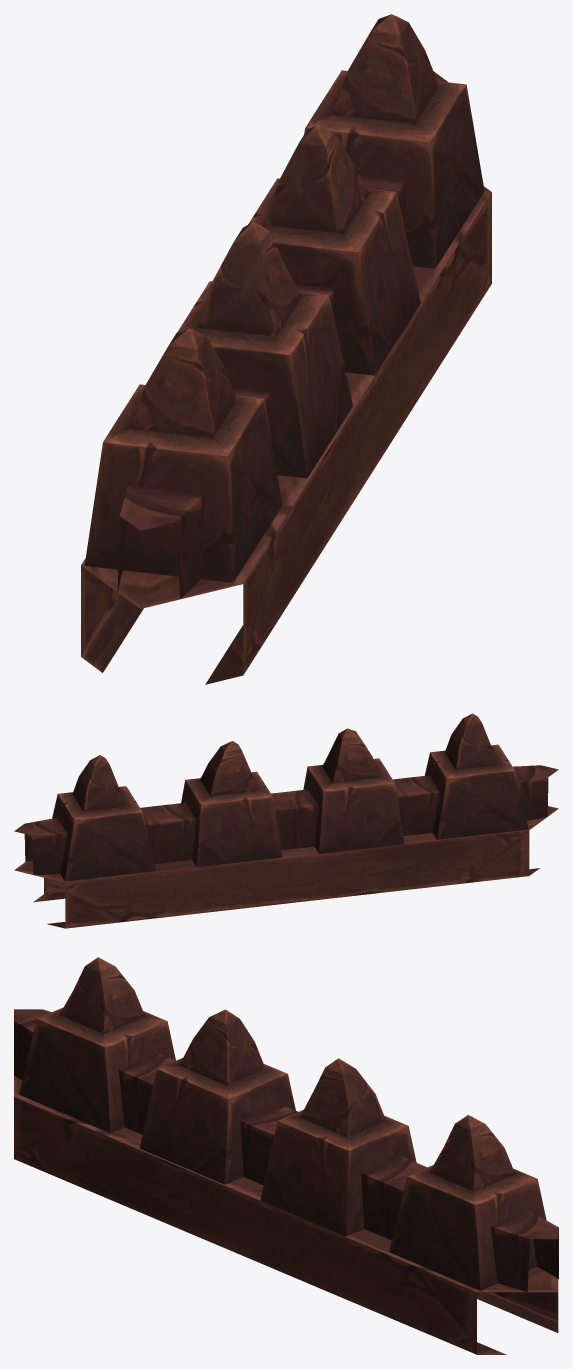
File: lava_railing_diagonal_01.fbx
3 views of the same model, one above another, from view 1: azimuth 30°, elevation 25°; view 2: azimuth 150°, elevation 25°; view 3: azimuth 270°, elevation 25° (orthographic). The views are drawn at different scales.
Visible parts, largest first — view 1: obj0.128; view 2: obj0.128; view 3: obj0.128.
Boxes of the visible parts, x1,y1,x2,y2 form: obj0.128: (81, 14, 491, 684); obj0.128: (14, 713, 558, 928); obj0.128: (14, 957, 558, 1354).
Size of the model in its own units: 4 by 1.66 by 4.
